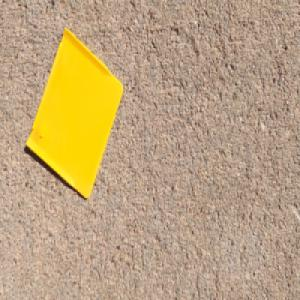PlasticPart: (24, 25, 124, 201)
